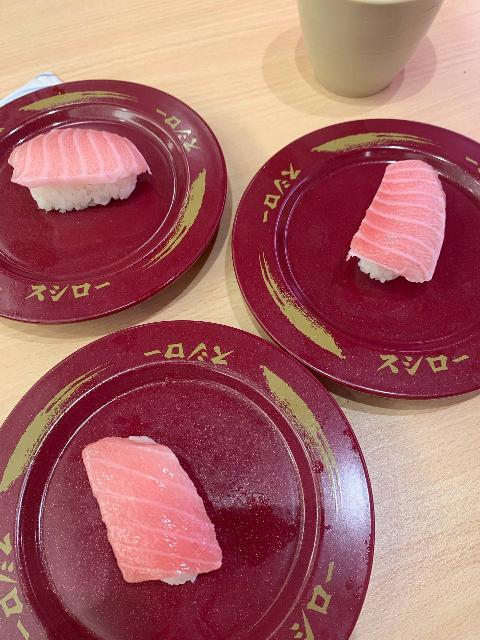janred: (0, 317, 393, 640), (244, 104, 480, 419), (4, 71, 233, 322)
